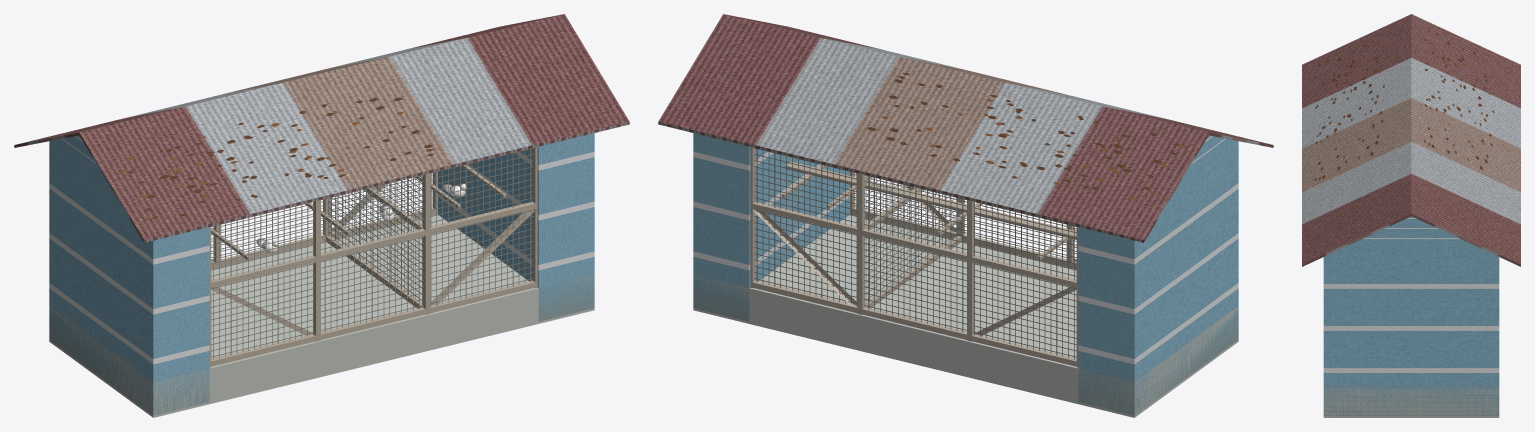
Rendered from kandang_burung_samping_futsal.glb.
3 views of the same model, side by side, from view 1: azimuth 30°, elevation 25°; view 2: azimuth 150°, elevation 25°; view 3: azimuth 270°, elevation 25° (orthographic). The views are drawn at different scales.
Visible parts, largest first — view 1: Atap_Seng_Tambalan, Dinding_Biru_Garis_Putih, Pondasi_Beton_Kandang, Kawat_Kasa_Kandang, Rangka_Kayu_Dan_Tangkringan, Burung_Merpati_Putih; view 2: Atap_Seng_Tambalan, Dinding_Biru_Garis_Putih, Pondasi_Beton_Kandang, Kawat_Kasa_Kandang, Rangka_Kayu_Dan_Tangkringan; view 3: Atap_Seng_Tambalan, Dinding_Biru_Garis_Putih, Pondasi_Beton_Kandang.
Part boxes in pixels (box(x1,y1,x2,y2)): Atap_Seng_Tambalan: box(14, 14, 629, 242); Dinding_Biru_Garis_Putih: box(49, 133, 594, 415); Pondasi_Beton_Kandang: box(49, 215, 594, 417); Kawat_Kasa_Kandang: box(211, 148, 533, 359); Rangka_Kayu_Dan_Tangkringan: box(209, 147, 537, 367); Burung_Merpati_Putih: box(256, 183, 466, 253); Atap_Seng_Tambalan: box(658, 14, 1273, 242); Dinding_Biru_Garis_Putih: box(693, 133, 1238, 415); Pondasi_Beton_Kandang: box(693, 215, 1238, 417); Kawat_Kasa_Kandang: box(754, 148, 1076, 359); Rangka_Kayu_Dan_Tangkringan: box(750, 147, 1078, 367); Atap_Seng_Tambalan: box(1302, 14, 1520, 266); Dinding_Biru_Garis_Putih: box(1323, 216, 1499, 416); Pondasi_Beton_Kandang: box(1323, 388, 1499, 417).
Size of the model in its own units: 4.84 by 2.41 by 2.24.
6 materials, 3 textured.
